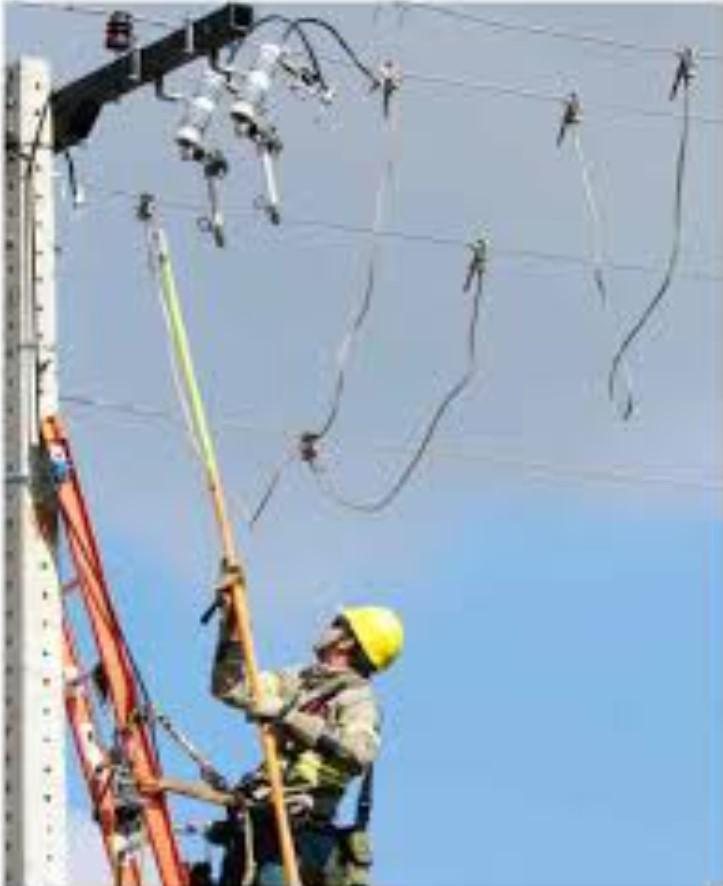Vara_Manobra: (149, 233, 297, 886)
